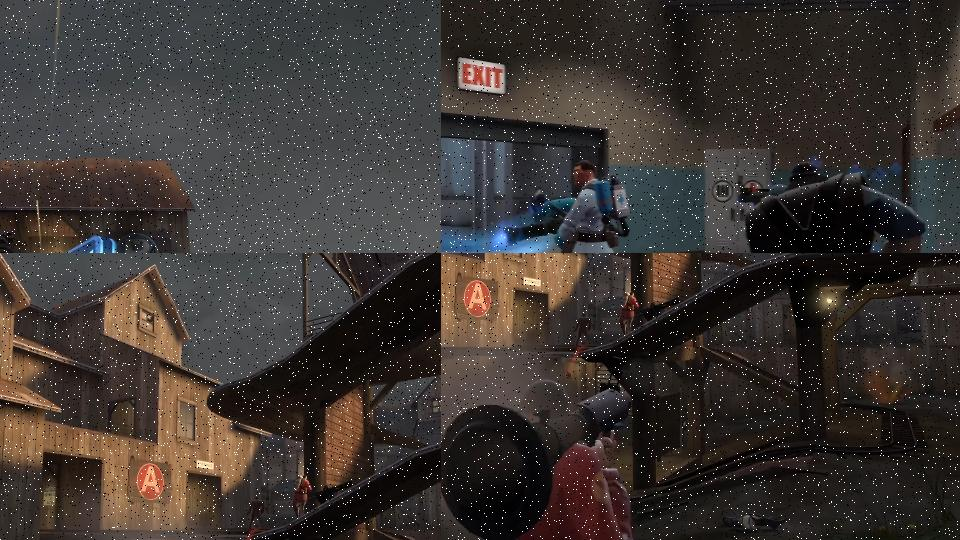Enemy: (441, 379, 632, 540), (707, 160, 934, 253), (496, 158, 660, 253), (293, 475, 310, 517), (620, 292, 637, 334), (247, 496, 263, 527), (574, 313, 590, 344)
